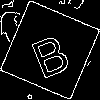B: (25, 25, 73, 80)
